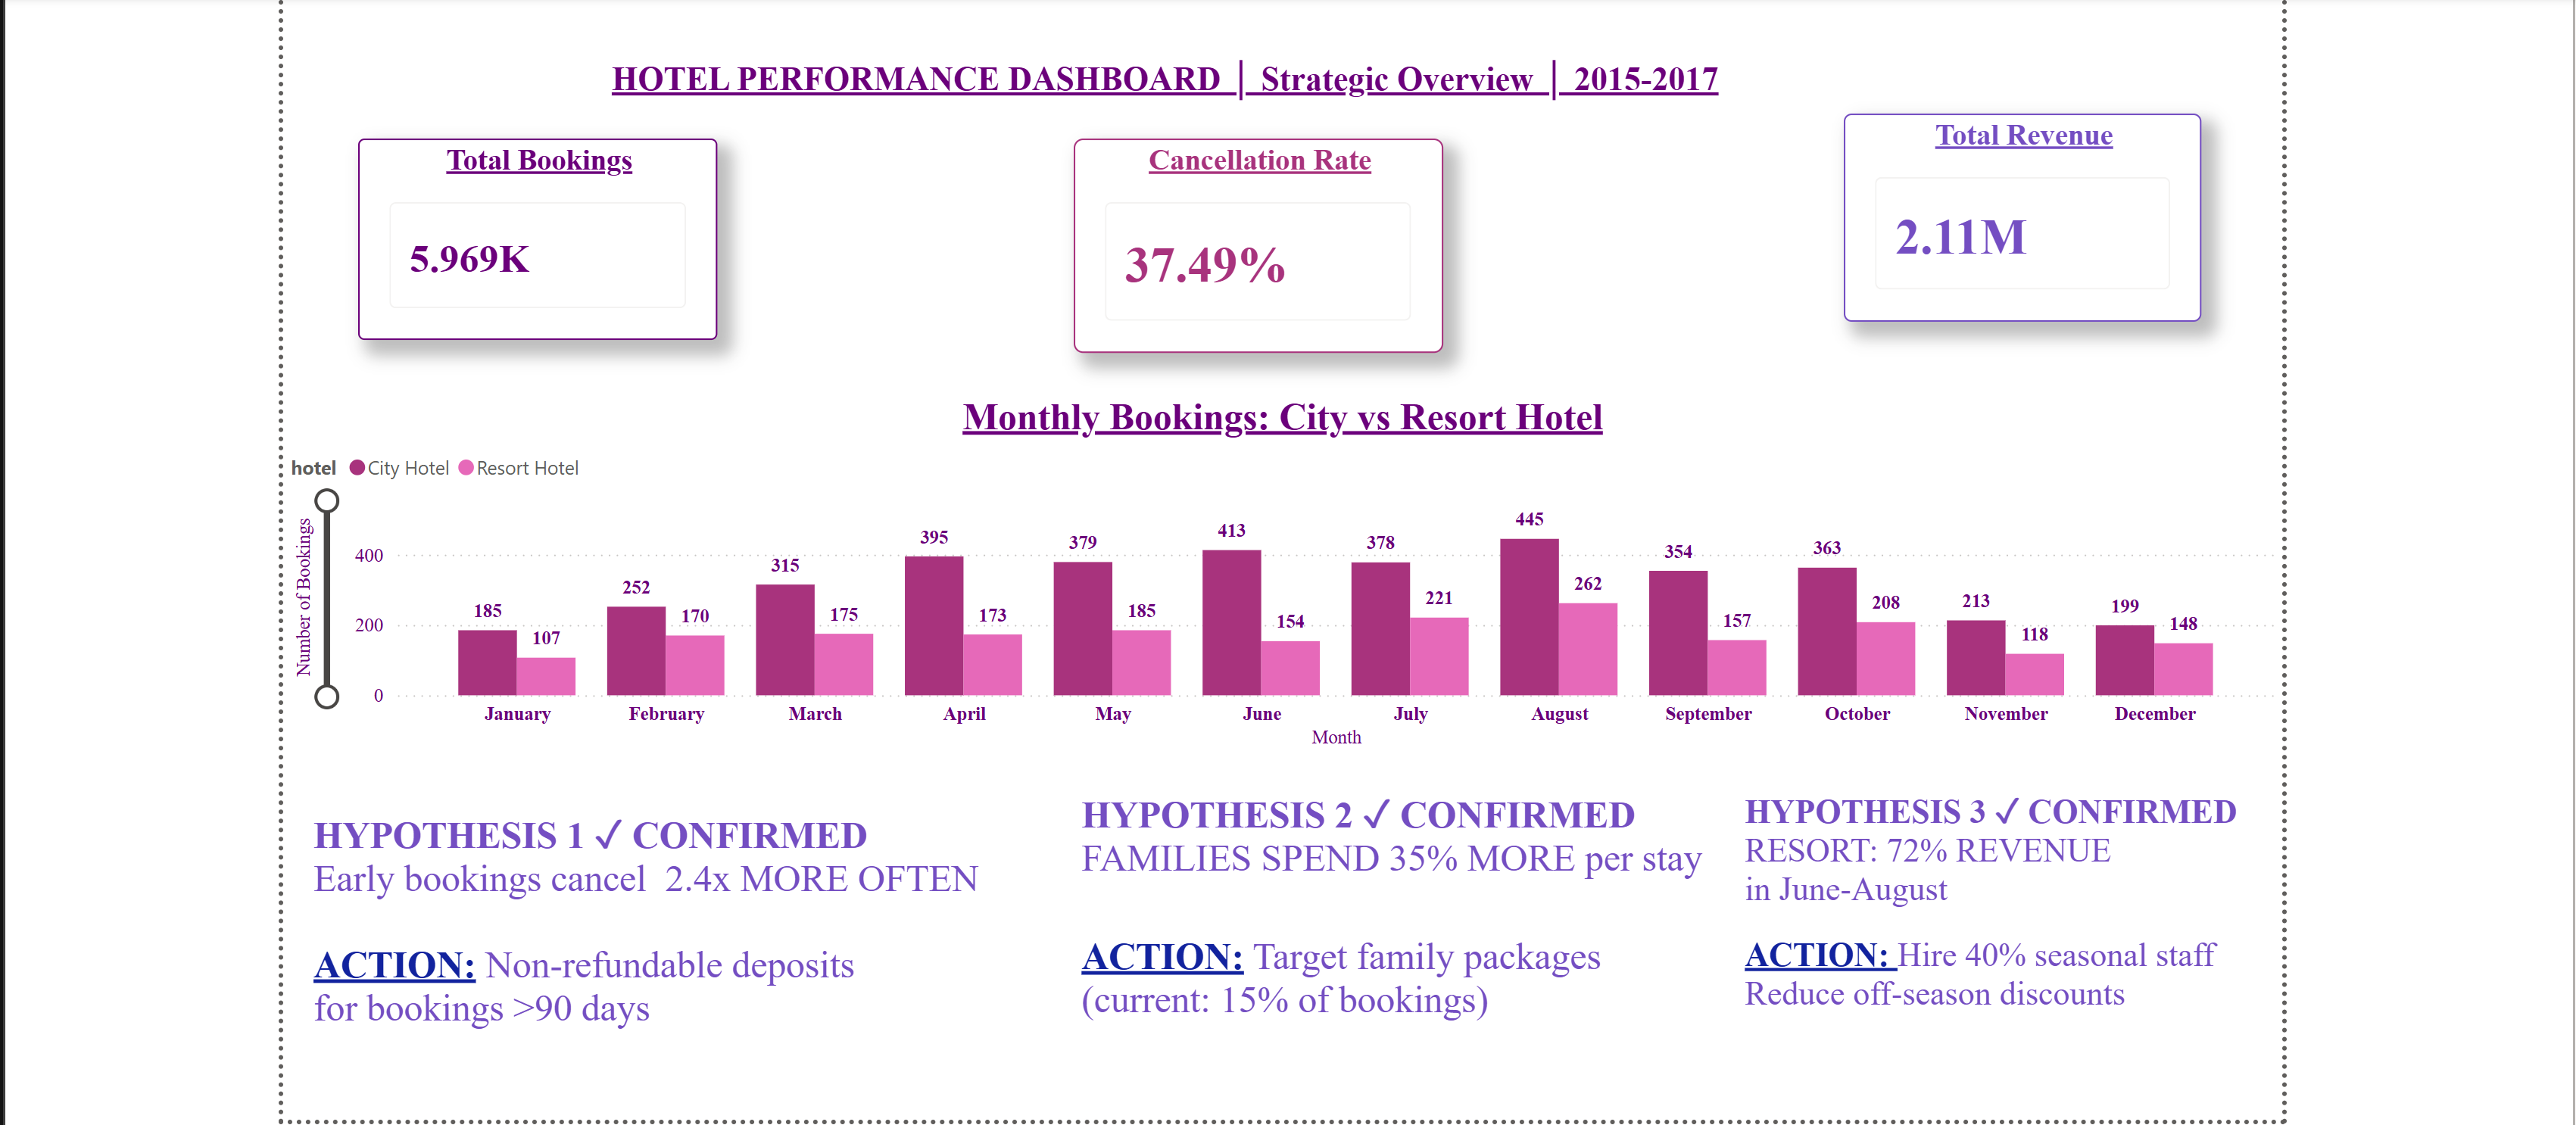

This screenshot's page, from the dashboard's own definition file:
{"tool":"powerbi","page":{"name":"Stratergy","canvas":[1280,720],"ordinal":0},"visuals":[{"type":"textbox","box":[163.8,36.4,800.8,78.9],"z":0},{"type":"cardVisual","title":"Total Bookings","fields":{"Data":["CountNonNull(hotel_analysis_enhanced.hotel)"]},"box":[48,91,230.1,129.1],"z":1000},{"type":"cardVisual","title":"Cancellation Rate","fields":{"Data":["hotel_analysis_enhanced.Cancellation Rate1 %"]},"box":[506.5,91,236.7,137.4],"z":2000},{"type":"cardVisual","title":"Total Revenue","fields":{"Data":["Sum(hotel_analysis_enhanced.estimated_revenue)"]},"box":[999.4,75.8,229,133.5],"z":3000},{"type":"clusteredColumnChart","title":"Monthly Bookings: City vs Resort Hotel","fields":{"Y":["CountNonNull(hotel_analysis_enhanced.hotel)"],"Category":["hotel_analysis_enhanced.arrival_date_month"],"Series":["hotel_analysis_enhanced.hotel"]},"box":[0,256.3,1280,230.5],"z":4000},{"type":"textbox","box":[14.9,514.8,589.2,168.8],"z":5000},{"type":"textbox","box":[506.5,501.5,423.7,182.1],"z":6000},{"type":"textbox","box":[930.2,501.5,349.2,195.3],"z":7000}]}

Visuals, with their boxes on the page's 1280x720 design canvas (x1, y1, x2, y2). These are canvas units, not pixel positions in the 2576x1125 screenshot, which may show the page scaled, cropped or inside an application window:
textbox: BBox(164, 36, 965, 115)
"Total Bookings" cardVisual: BBox(48, 91, 278, 220)
"Cancellation Rate" cardVisual: BBox(506, 91, 743, 228)
"Total Revenue" cardVisual: BBox(999, 76, 1228, 209)
"Monthly Bookings: City vs Resort Hotel" clusteredColumnChart: BBox(0, 256, 1280, 487)
textbox: BBox(15, 515, 604, 684)
textbox: BBox(506, 502, 930, 684)
textbox: BBox(930, 502, 1279, 697)
